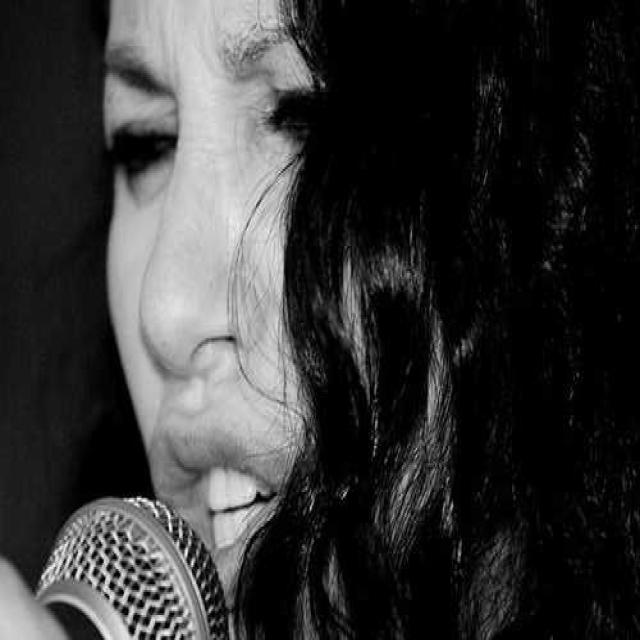microphone: (32, 489, 234, 640)
